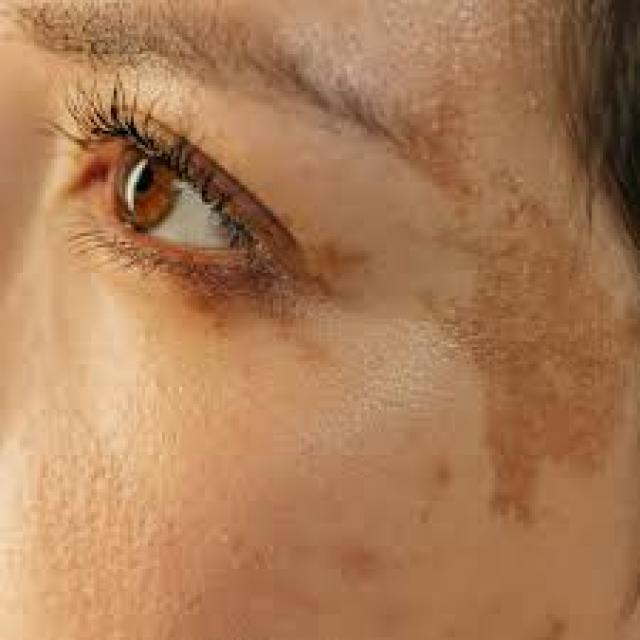pigmentation: (448, 183, 612, 527)
